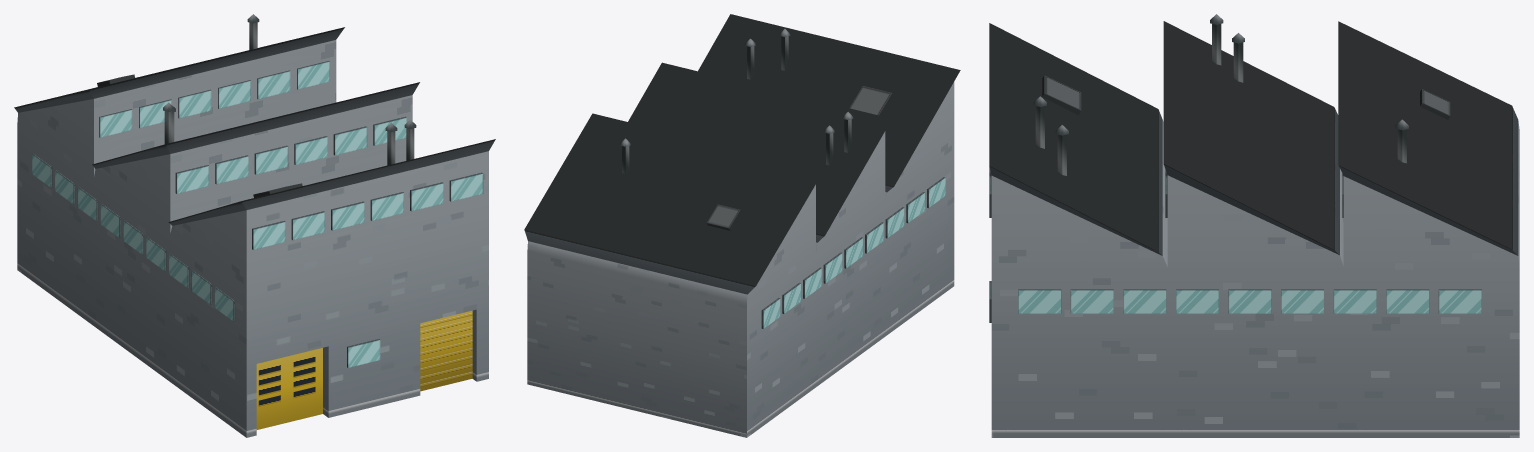
The model's file is industrial_wearhouse_01.fbx.
3 views of the same model, side by side, from view 1: azimuth 30°, elevation 25°; view 2: azimuth 150°, elevation 25°; view 3: azimuth 270°, elevation 25° (orthographic). The views are drawn at different scales.
Visible parts, largest first — view 1: ind:wearhouse_02; view 2: ind:wearhouse_02; view 3: ind:wearhouse_02.
Boxes of the visible parts, x1,y1,x2,y2 form: ind:wearhouse_02: [14, 14, 495, 437]; ind:wearhouse_02: [524, 14, 960, 437]; ind:wearhouse_02: [989, 14, 1519, 437].
Bounding box in the file's own units: 12.96 × 12.54 × 20.18.
